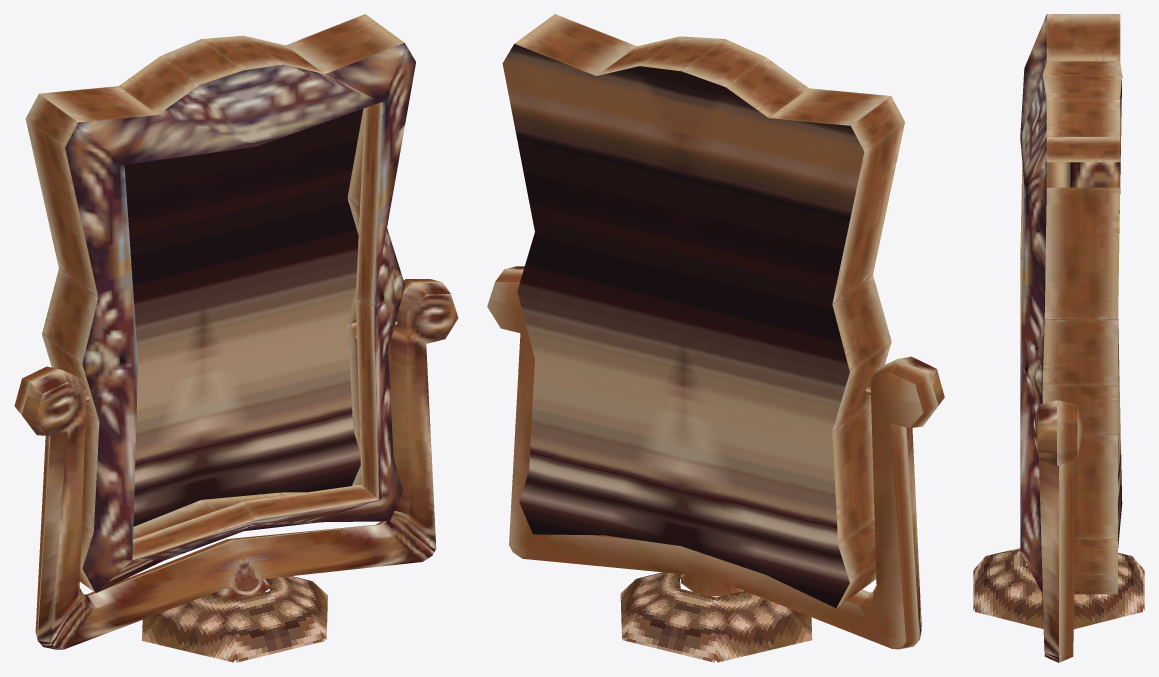
File: mirror.glb
3 renders of one model, left to right at view 1: azimuth 30°, elevation 25°; view 2: azimuth 150°, elevation 25°; view 3: azimuth 270°, elevation 25°, orthographic. The views are drawn at different scales.
Visible parts, largest first — view 1: mirror; view 2: mirror; view 3: mirror.
Part boxes in pixels (bbox=[...]): mirror: bbox=[14, 14, 458, 662]; mirror: bbox=[487, 14, 944, 662]; mirror: bbox=[973, 14, 1144, 662].
Size of the model in its own units: 227 by 279 by 84.
Materials: 3 (3 with a texture image).
